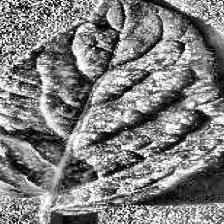spider mites: (0, 0, 224, 215)
